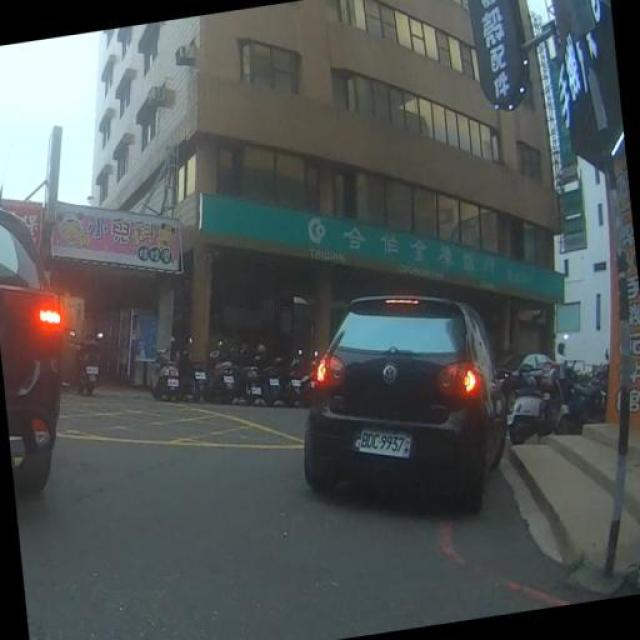illegalparking: (269, 282, 531, 549)
